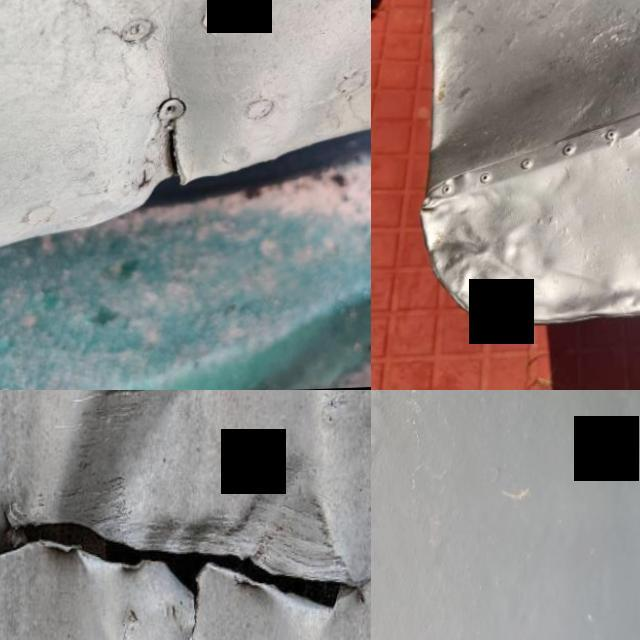Crack: (0, 506, 371, 640), (142, 105, 206, 196)
Dent: (414, 174, 564, 326), (60, 390, 206, 523), (538, 230, 640, 355)
